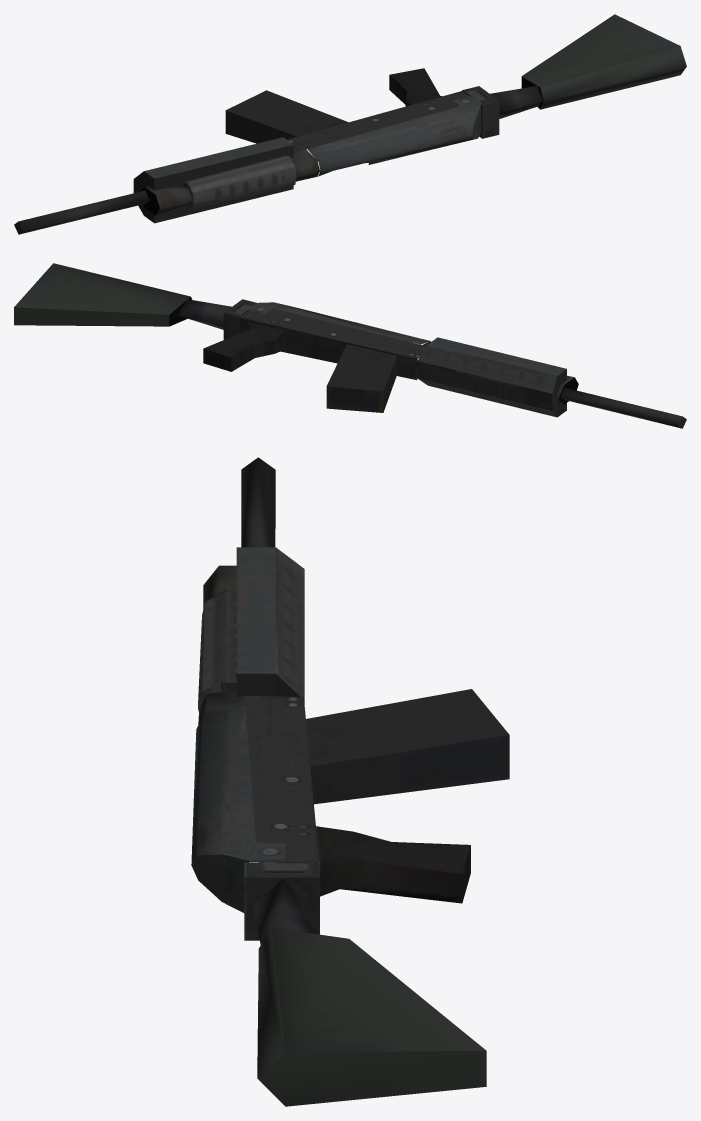
File: Pickup_WeaponBq06.glb
The picture shows the model from 3 angles, top to bottom: view 1: azimuth 30°, elevation 25°; view 2: azimuth 150°, elevation 25°; view 3: azimuth 270°, elevation 25°; orthographic projection. The views are drawn at different scales.
Parts seen in each view (by area): view 1: pk_weapon_bq06; view 2: pk_weapon_bq06; view 3: pk_weapon_bq06.
Boxes of the visible parts, box(x1,y1,x2,y2) form: pk_weapon_bq06: box(14, 14, 686, 234); pk_weapon_bq06: box(14, 263, 686, 428); pk_weapon_bq06: box(191, 457, 509, 1106).
Bounding box in the file's own units: 1.4 × 0.0891 × 0.3096.
1 material, 1 textured.
